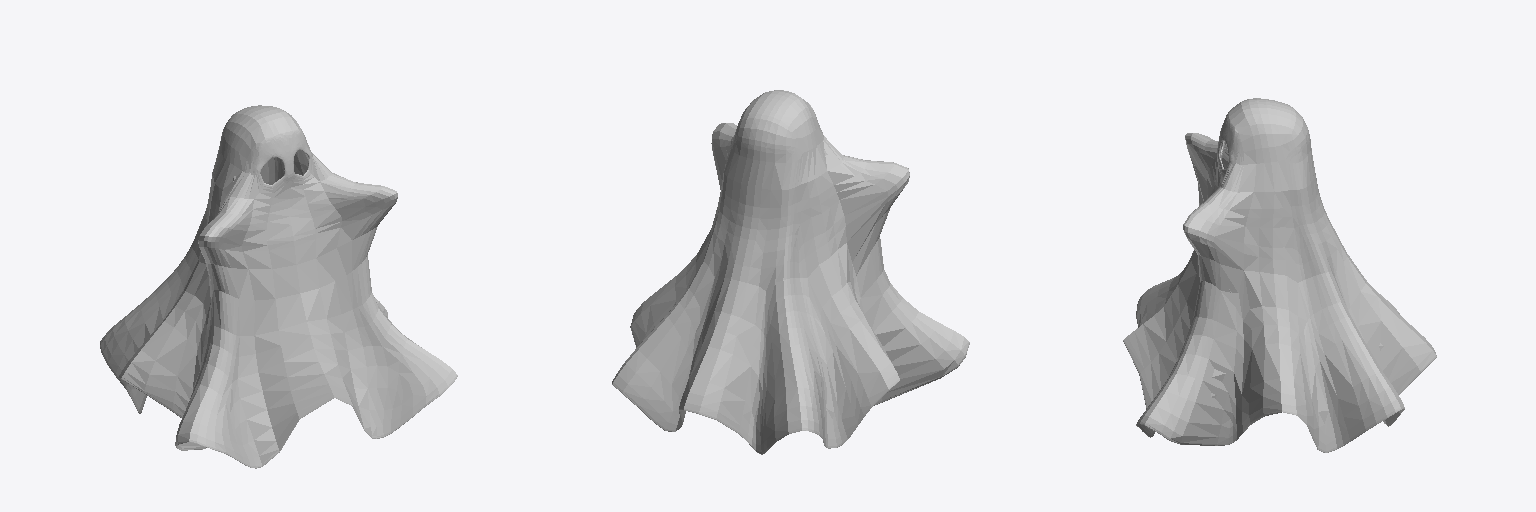
3 views of the same model, side by side, from view 1: azimuth 30°, elevation 25°; view 2: azimuth 150°, elevation 25°; view 3: azimuth 270°, elevation 25° (orthographic).
Visible parts, largest first — view 1: youlinguu2:Group3 walk1; view 2: youlinguu2:Group3 walk1; view 3: youlinguu2:Group3 walk1.
Boxes of the visible parts, x1=… form: youlinguu2:Group3 walk1: x1=100, y1=105, x2=457, y2=468; youlinguu2:Group3 walk1: x1=612, y1=90, x2=969, y2=454; youlinguu2:Group3 walk1: x1=1123, y1=98, x2=1436, y2=452.
Bounding box in the file's own units: 37.02 × 39.2 × 36.51.